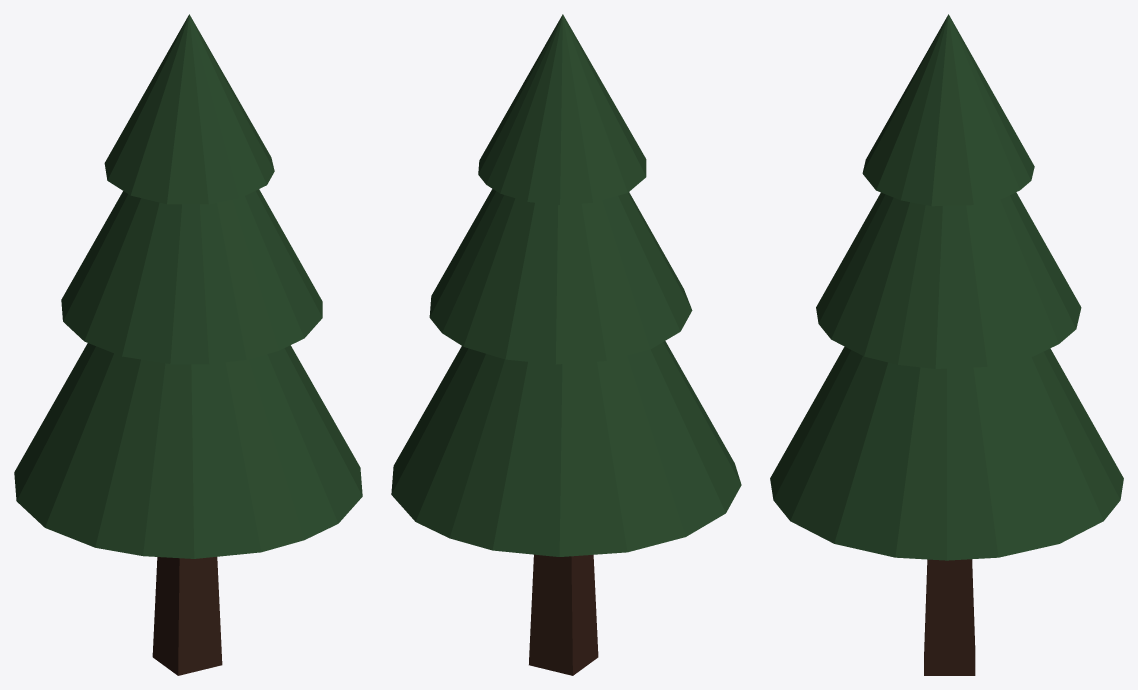
Rendered from Tree_1.obj.
3 renders of one model, left to right at view 1: azimuth 30°, elevation 25°; view 2: azimuth 150°, elevation 25°; view 3: azimuth 270°, elevation 25°, orthographic.
Parts seen in each view (by area): view 1: Cube.001; view 2: Cube.001; view 3: Cube.001.
Boxes of the visible parts, x1,y1,x2,y2 form: Cube.001: [14, 14, 362, 675]; Cube.001: [391, 14, 741, 675]; Cube.001: [770, 14, 1123, 675].
Bounding box in the file's own units: 3.44 × 7 × 3.44.
